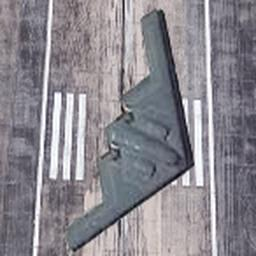Airplane: (64, 9, 198, 249)
